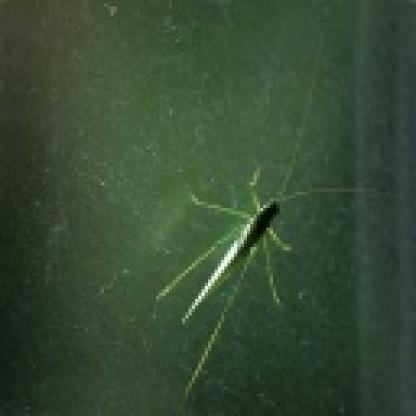grasshopper: (162, 159, 302, 416)
